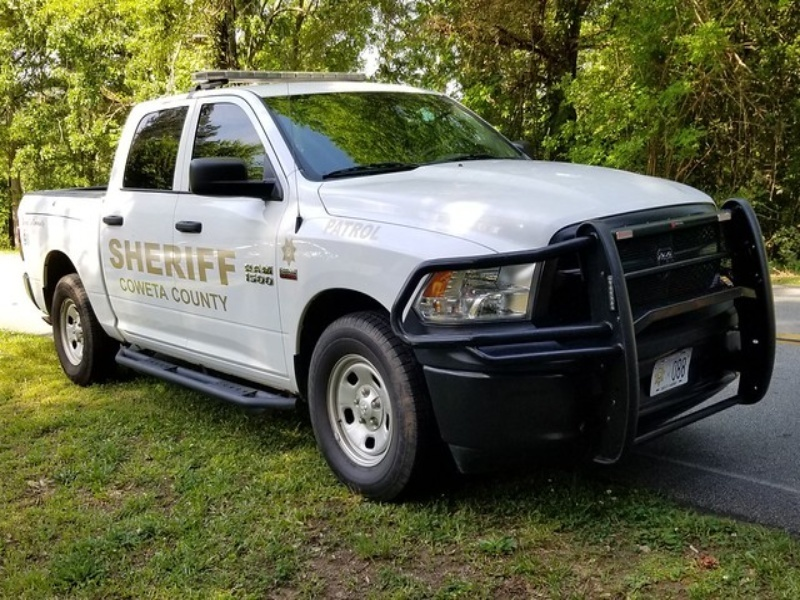policecar: (11, 77, 767, 481)
